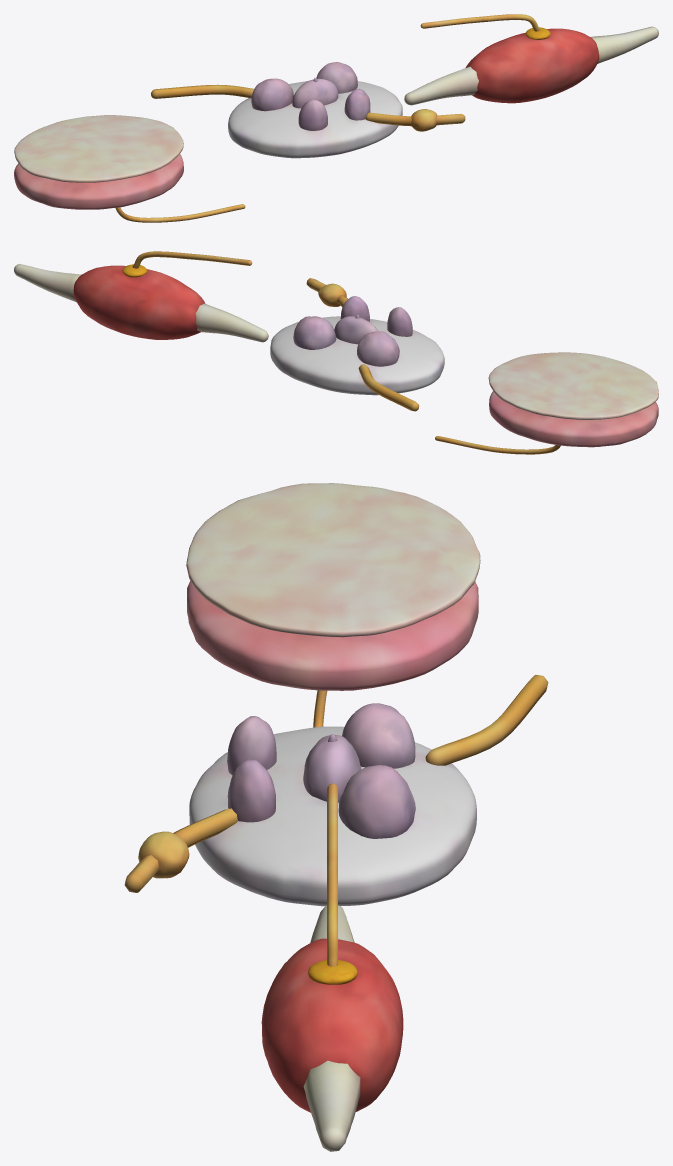
Rendered from reflex-arc-parts.glb.
3 renders of one model, top to bottom at view 1: azimuth 30°, elevation 25°; view 2: azimuth 150°, elevation 25°; view 3: azimuth 270°, elevation 25°, orthographic. The views are drawn at different scales.
Parts seen in each view (by area): view 1: reflex-arc-parts-skin-epidermis, reflex-arc-parts-cord-white, reflex-arc-parts-muscle-belly, reflex-arc-parts-skin-dermis, reflex-arc-parts-cord-grey, reflex-arc-parts-muscle-tendon, reflex-arc-parts-cord-roots, reflex-arc-parts-muscle-fibre, reflex-arc-parts-skin-fibre; view 2: reflex-arc-parts-skin-epidermis, reflex-arc-parts-cord-white, reflex-arc-parts-muscle-belly, reflex-arc-parts-skin-dermis, reflex-arc-parts-cord-grey, reflex-arc-parts-muscle-tendon, reflex-arc-parts-cord-roots, reflex-arc-parts-muscle-fibre, reflex-arc-parts-skin-fibre; view 3: reflex-arc-parts-skin-epidermis, reflex-arc-parts-cord-white, reflex-arc-parts-muscle-belly, reflex-arc-parts-skin-dermis, reflex-arc-parts-cord-grey, reflex-arc-parts-cord-roots, reflex-arc-parts-muscle-tendon, reflex-arc-parts-muscle-fibre, reflex-arc-parts-muscle-endplate.
Part boxes in pixels (x1=…): reflex-arc-parts-skin-epidermis: x1=14, y1=115, x2=183, y2=182; reflex-arc-parts-cord-white: x1=228, y1=81, x2=402, y2=158; reflex-arc-parts-muscle-belly: x1=465, y1=28, x2=599, y2=103; reflex-arc-parts-skin-dermis: x1=14, y1=154, x2=183, y2=209; reflex-arc-parts-cord-grey: x1=251, y1=62, x2=370, y2=130; reflex-arc-parts-muscle-tendon: x1=404, y1=26, x2=658, y2=105; reflex-arc-parts-cord-roots: x1=151, y1=84, x2=465, y2=131; reflex-arc-parts-muscle-fibre: x1=420, y1=14, x2=540, y2=31; reflex-arc-parts-skin-fibre: x1=115, y1=204, x2=245, y2=222; reflex-arc-parts-skin-epidermis: x1=488, y1=352, x2=658, y2=419; reflex-arc-parts-cord-white: x1=270, y1=316, x2=444, y2=395; reflex-arc-parts-muscle-belly: x1=73, y1=265, x2=205, y2=339; reflex-arc-parts-skin-dermis: x1=489, y1=391, x2=658, y2=447; reflex-arc-parts-cord-grey: x1=293, y1=296, x2=412, y2=366; reflex-arc-parts-muscle-tendon: x1=14, y1=264, x2=268, y2=342; reflex-arc-parts-cord-roots: x1=306, y1=278, x2=419, y2=411; reflex-arc-parts-muscle-fibre: x1=132, y1=251, x2=252, y2=268; reflex-arc-parts-skin-fibre: x1=435, y1=436, x2=560, y2=454; reflex-arc-parts-skin-epidermis: x1=186, y1=483, x2=480, y2=637; reflex-arc-parts-cord-white: x1=189, y1=726, x2=476, y2=906; reflex-arc-parts-muscle-belly: x1=261, y1=938, x2=403, y2=1112; reflex-arc-parts-skin-dermis: x1=187, y1=581, x2=478, y2=690; reflex-arc-parts-cord-grey: x1=227, y1=703, x2=415, y2=838; reflex-arc-parts-cord-roots: x1=124, y1=675, x2=548, y2=892; reflex-arc-parts-muscle-tendon: x1=303, y1=905, x2=360, y2=1151; reflex-arc-parts-muscle-fibre: x1=327, y1=783, x2=337, y2=966; reflex-arc-parts-muscle-endplate: x1=308, y1=960, x2=357, y2=984.
Size of what is drawn, in the model's own units: 10 by 2.07 by 2.89.
